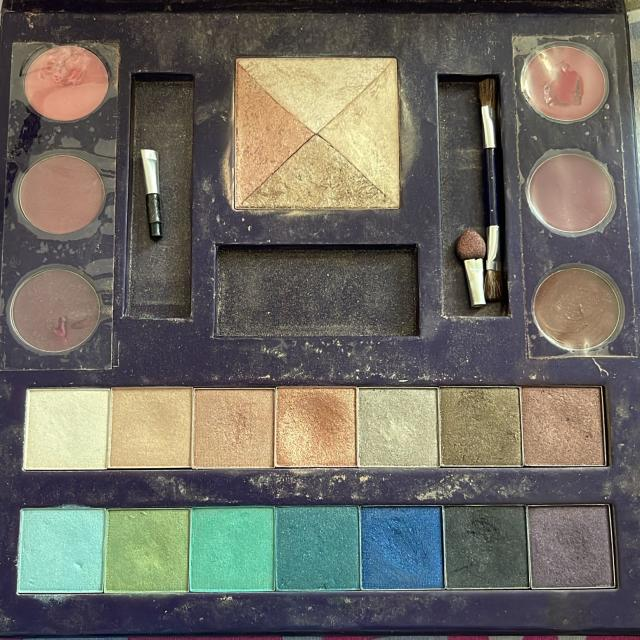eye shade: (26, 508, 622, 599), (211, 15, 427, 264), (11, 260, 120, 376), (14, 135, 114, 241), (5, 36, 114, 128)
highlighter: (20, 383, 615, 476)
lip shade: (518, 20, 628, 358)
